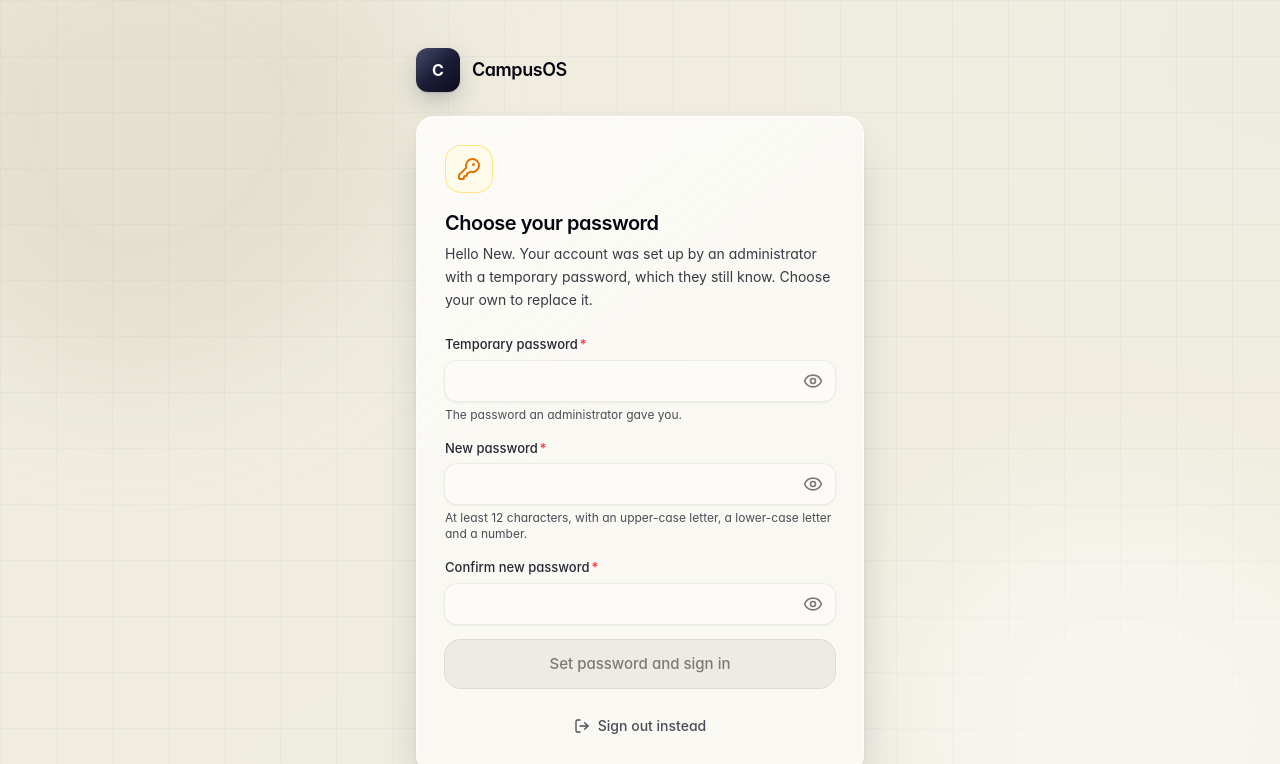
Test: an account that owes a password change › does not let anyone in on a wrong temporary password
Type "NotItAtAll" into the password field labelled "Temporary password*". click: point(640, 381)
box: [445,361,835,401]
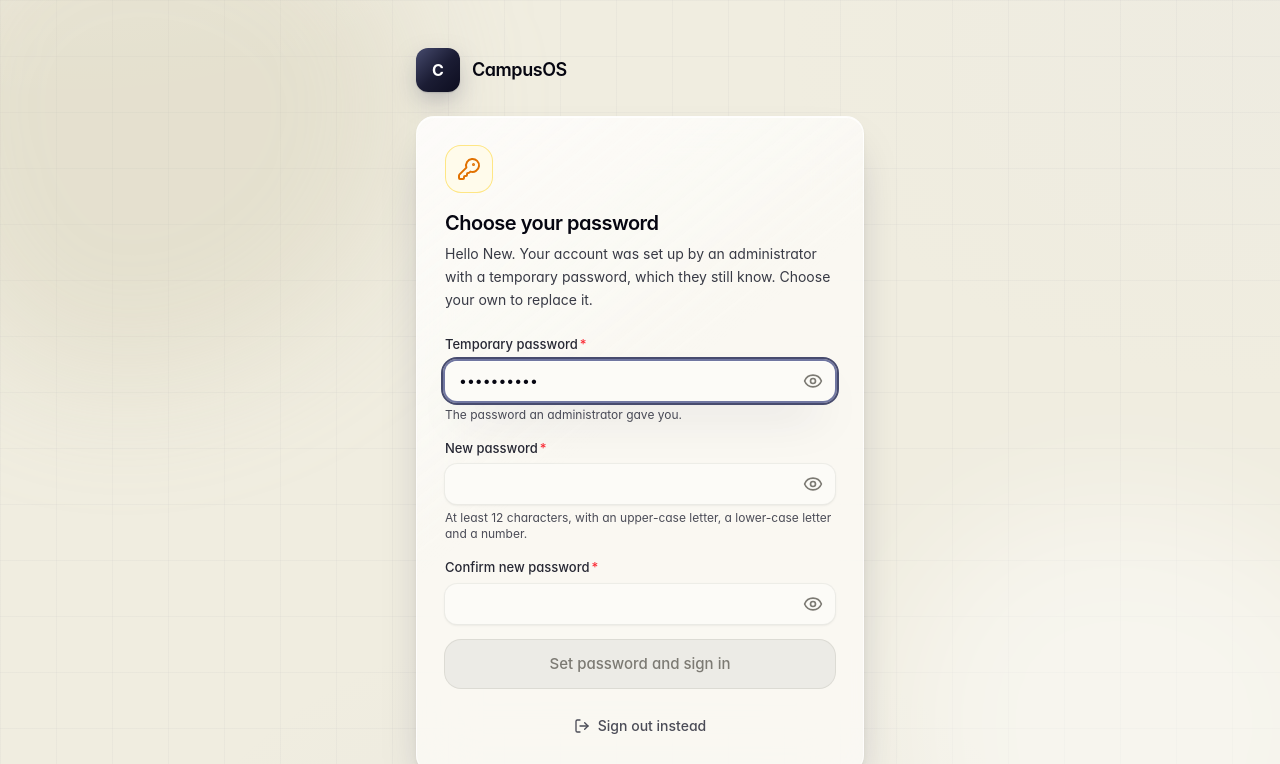
Type "SomethingStrong2026" into the password field labelled "New password*". click: point(640, 484)
box: [445,464,835,504]
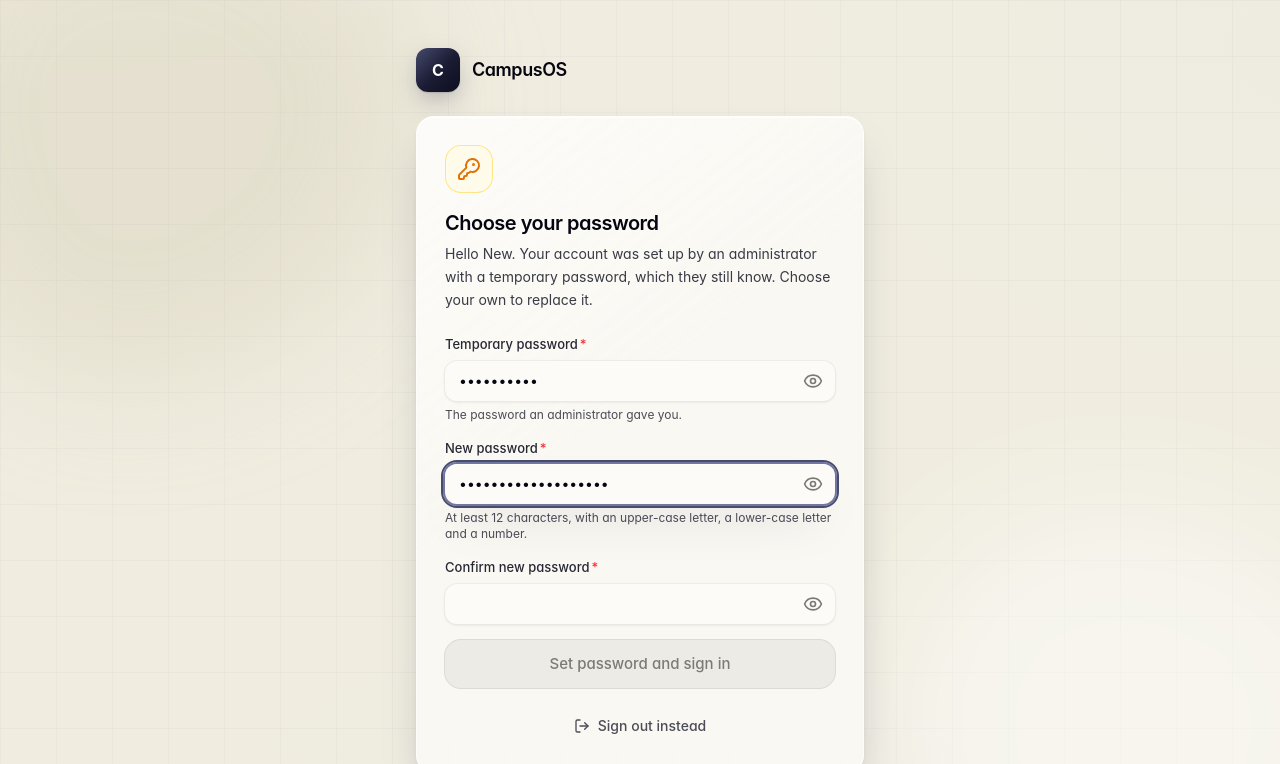
Type "SomethingStrong2026" into the password field labelled "Confirm new password*". click: point(640, 604)
box: [445,584,835,624]
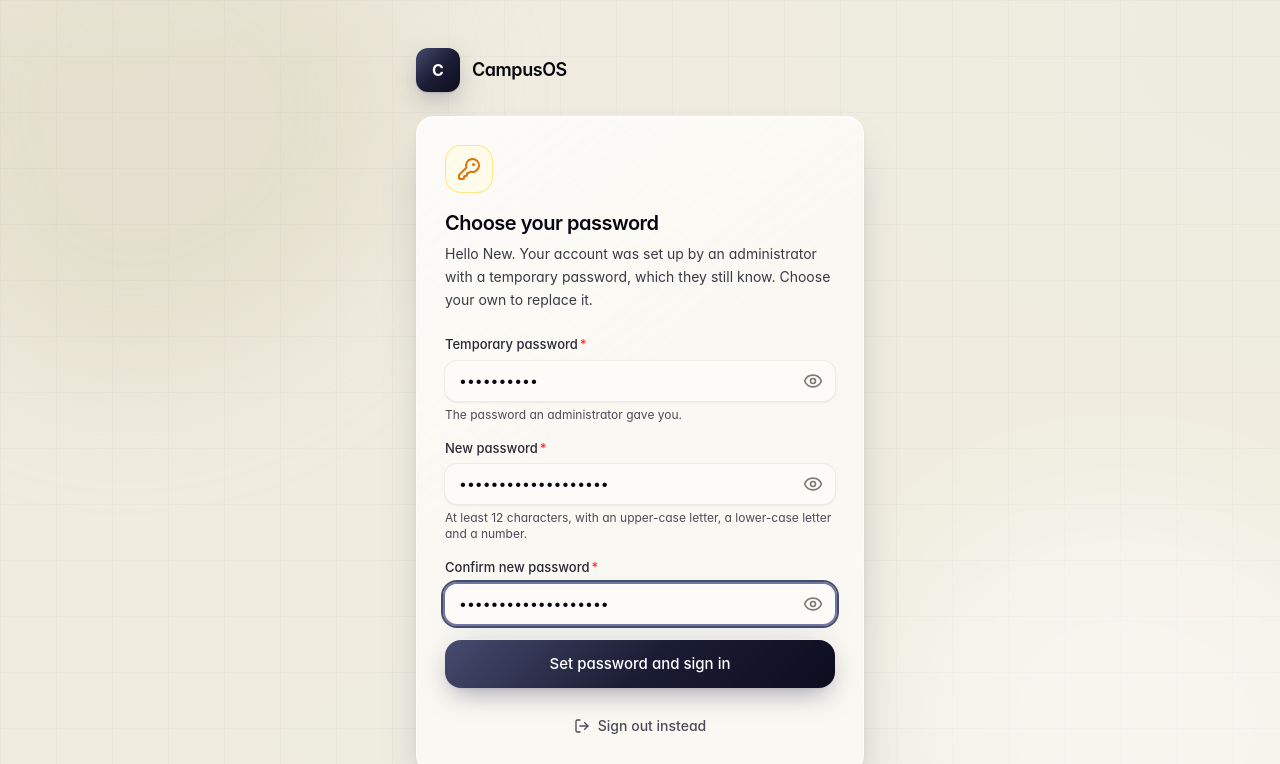
Click the button "Set password and sign in". click: point(640, 664)
box: [445,640,835,688]
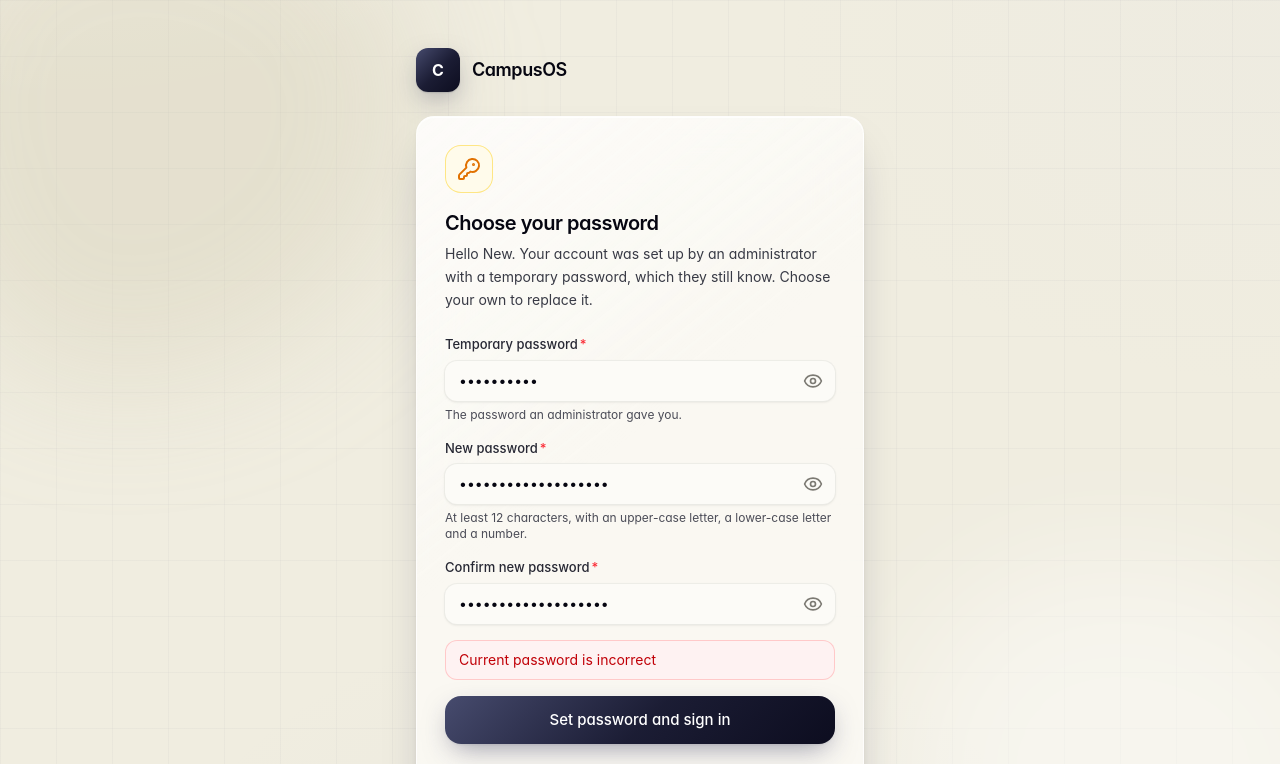
Expected: the message reads "Current password is incorrect", [459,651,656,668]
